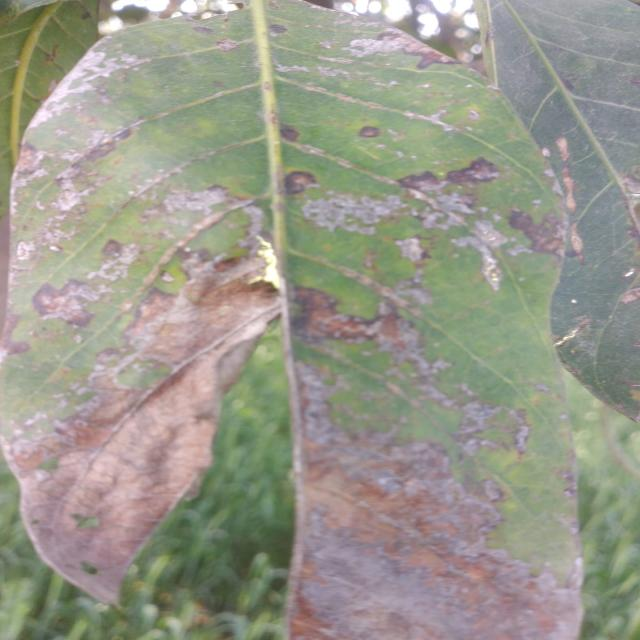Powdery Mildew: (299, 194, 378, 231)
